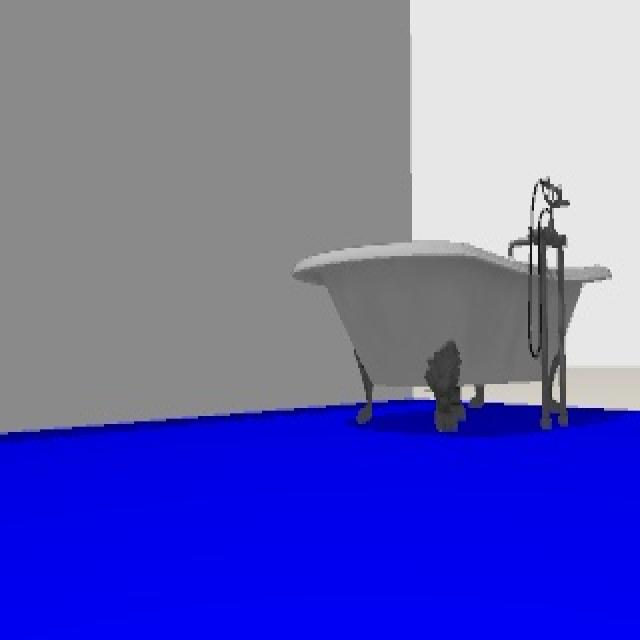bathtub: (297, 171, 612, 430)
